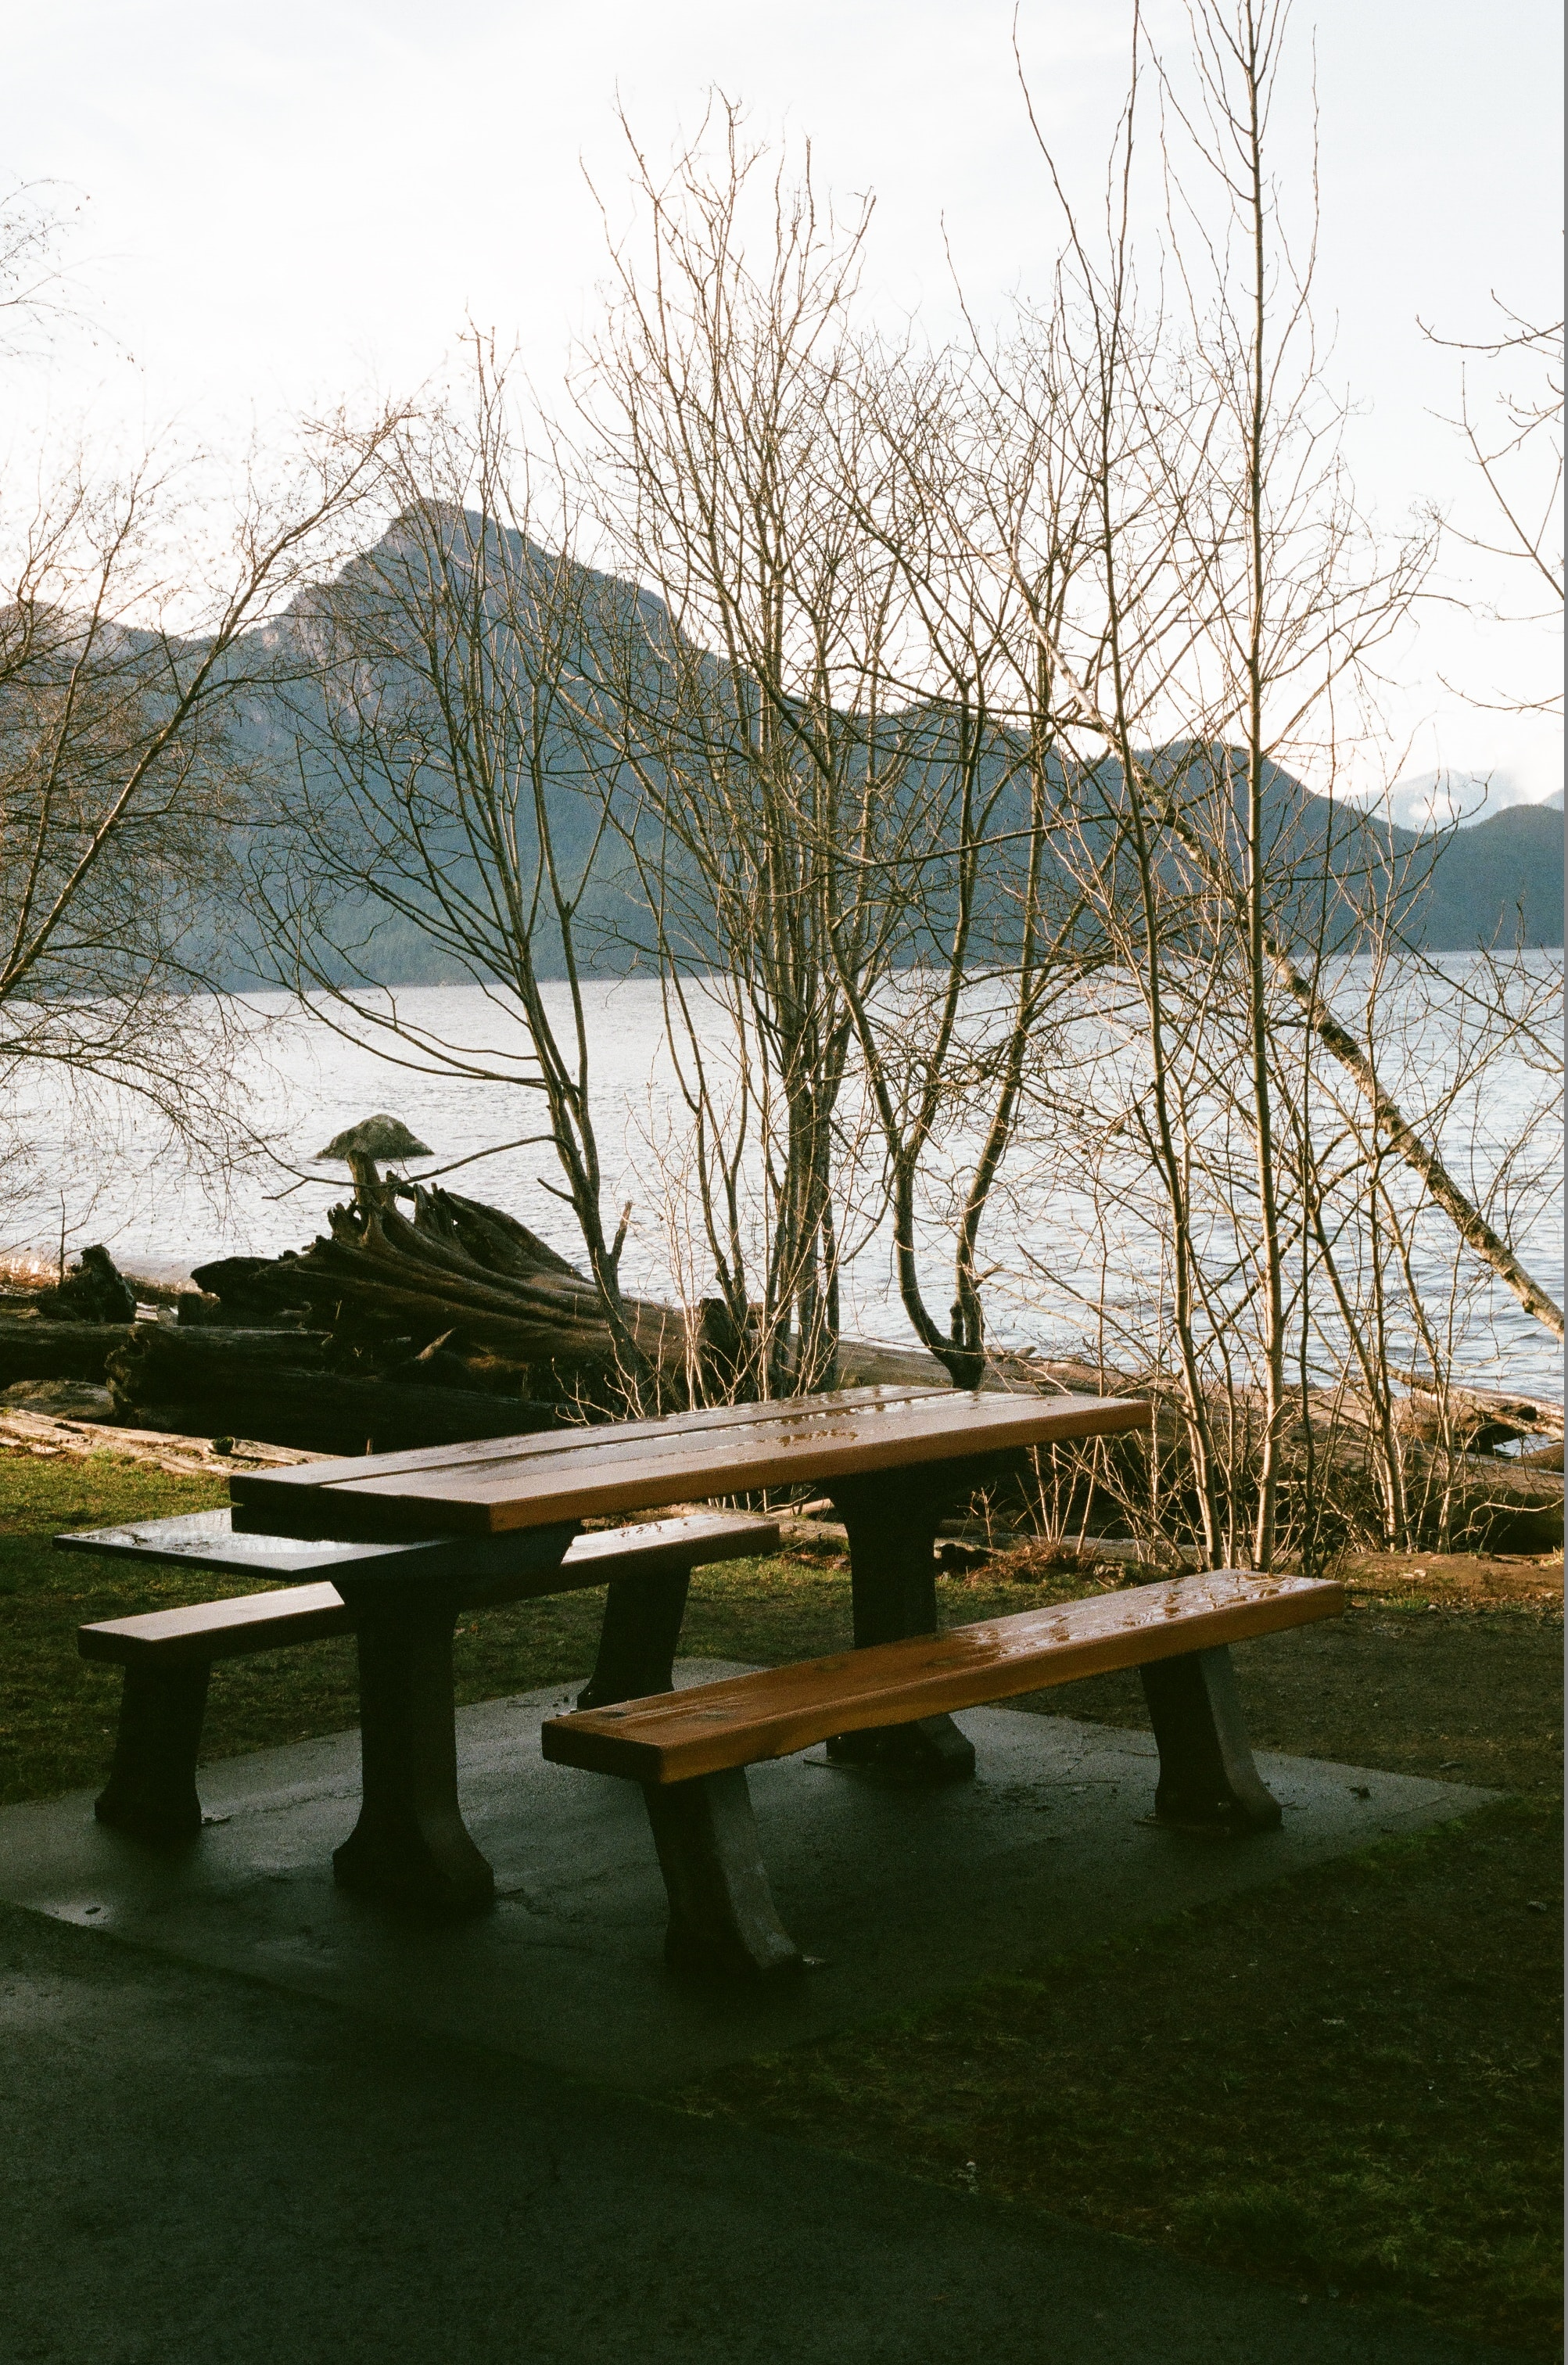obstacle: (72, 1331, 1398, 2040)
